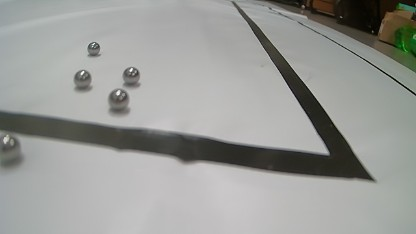ironball: (0, 134, 21, 165), (108, 88, 129, 110), (73, 69, 91, 88), (122, 66, 140, 85), (87, 41, 100, 55), (300, 4, 305, 10)
